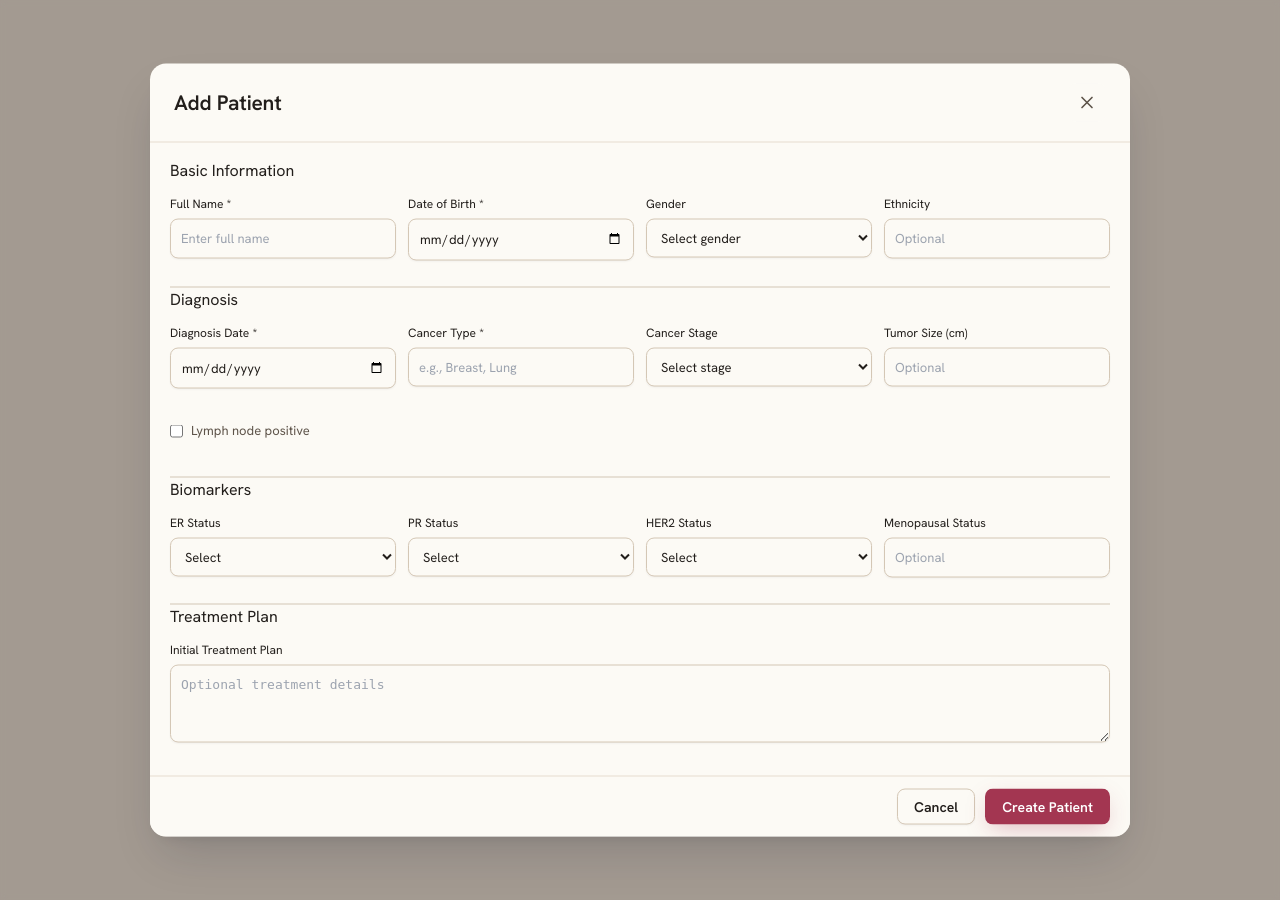
Test case: AddPatientDialog › should display backend validation message when API returns nested error payload
Type "John Doe" into the field labelled "Full Name *" at (283, 238), box [170,218,396,258]
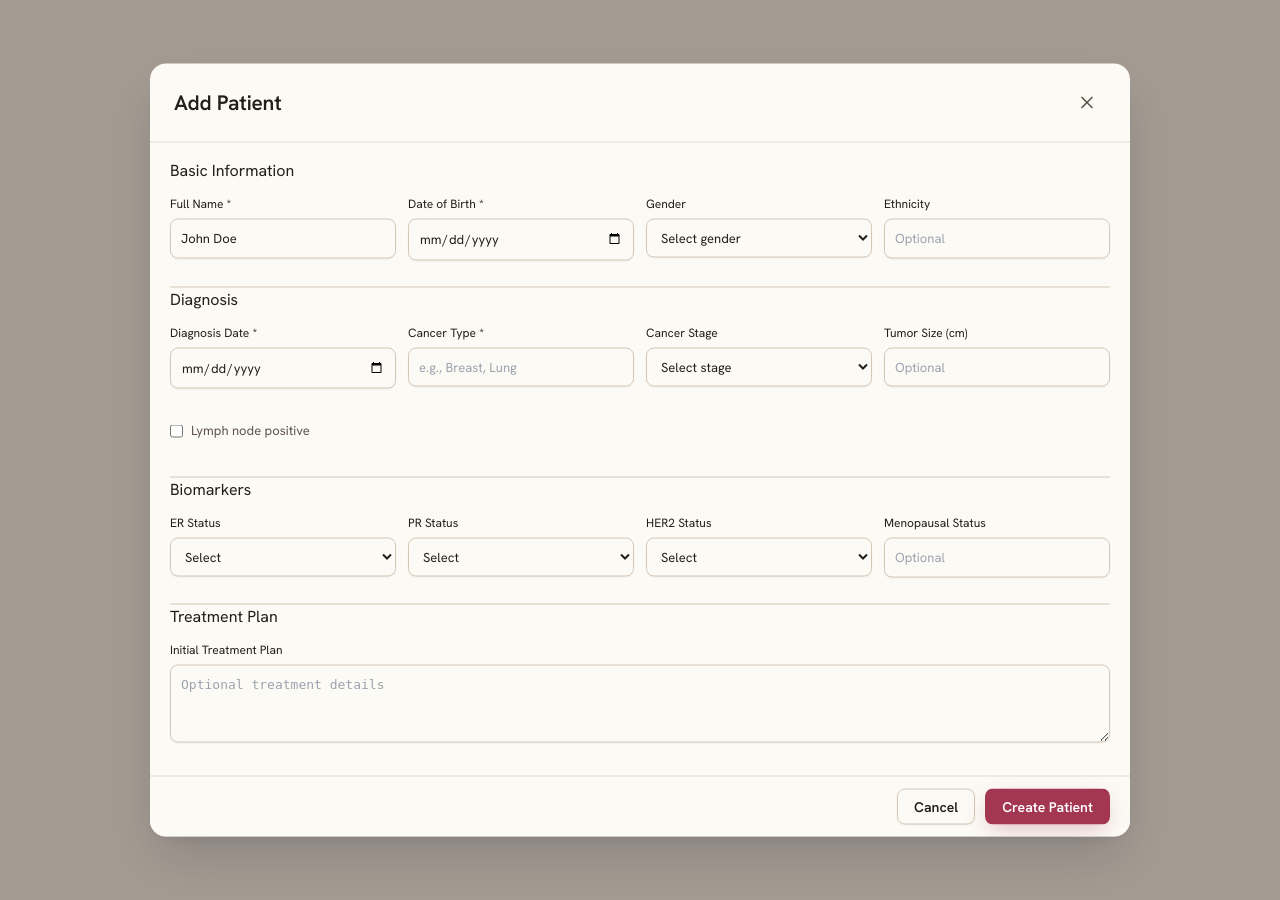
Type "1980-01-15" into the date field labelled "Date of Birth *" at (521, 239), box [408,218,634,260]
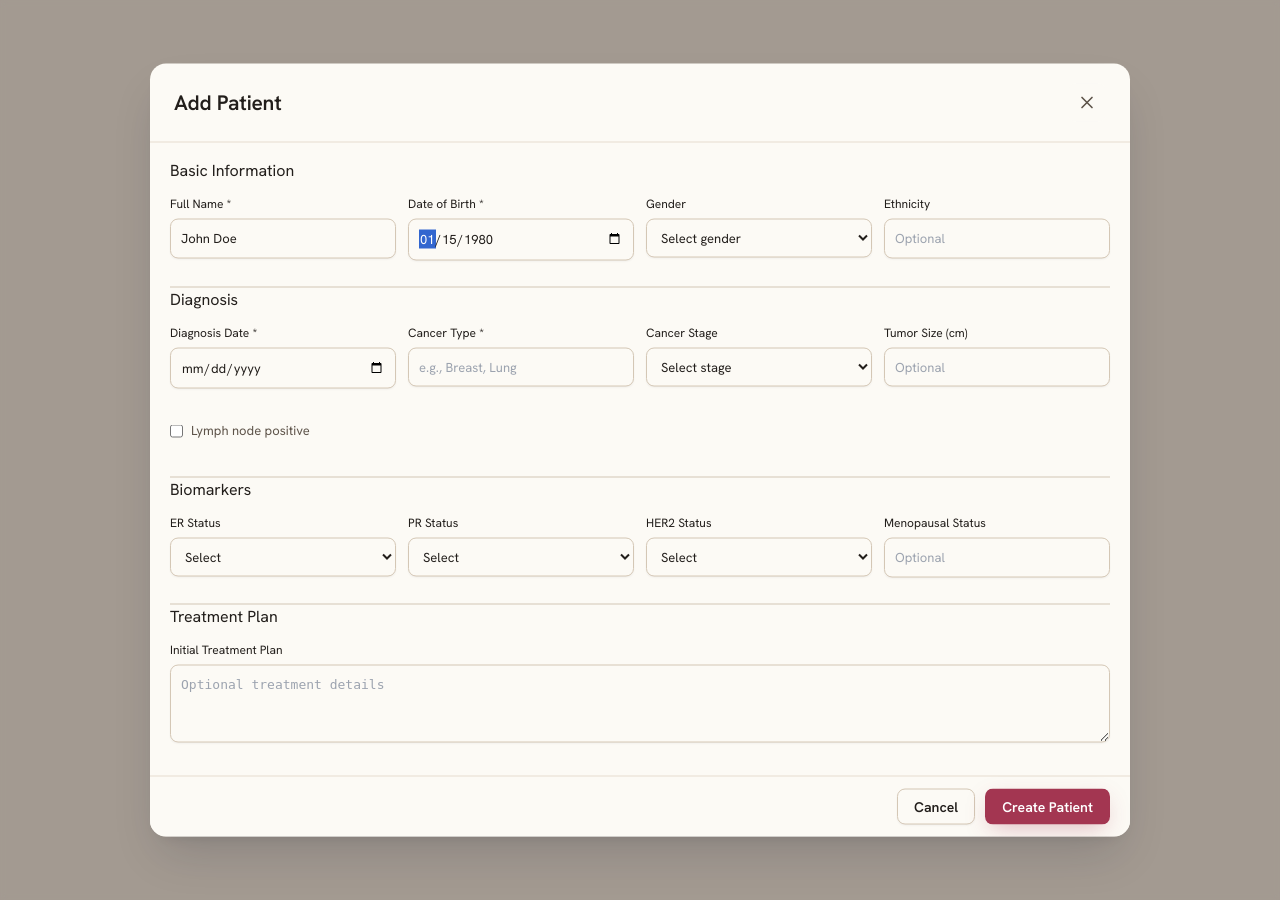
Type "2023-01-15" into the date field labelled "Diagnosis Date *" at (283, 368), box [170,347,396,388]
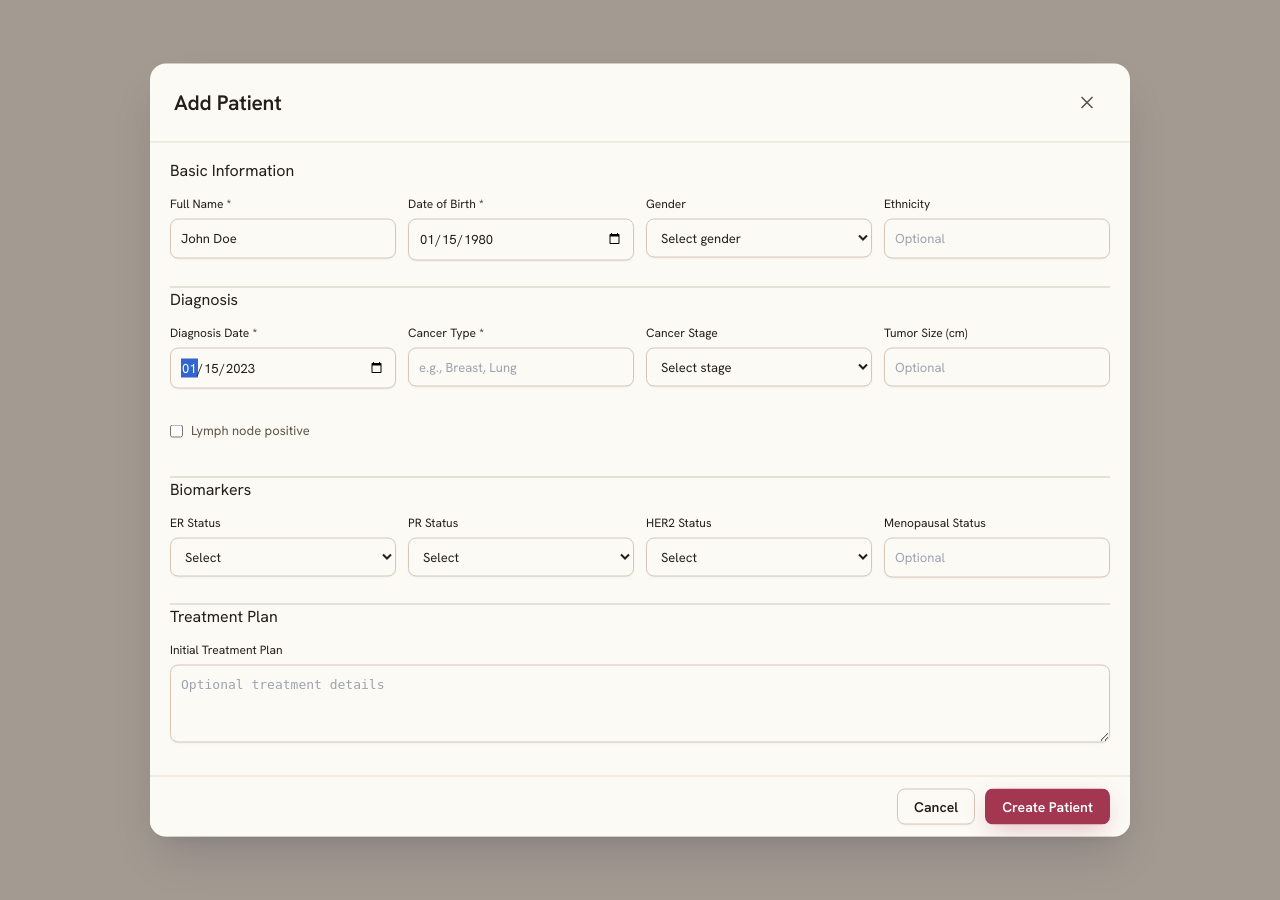
Type "Breast" into the field labelled "Cancer Type *" at (521, 367), box [408,347,634,386]
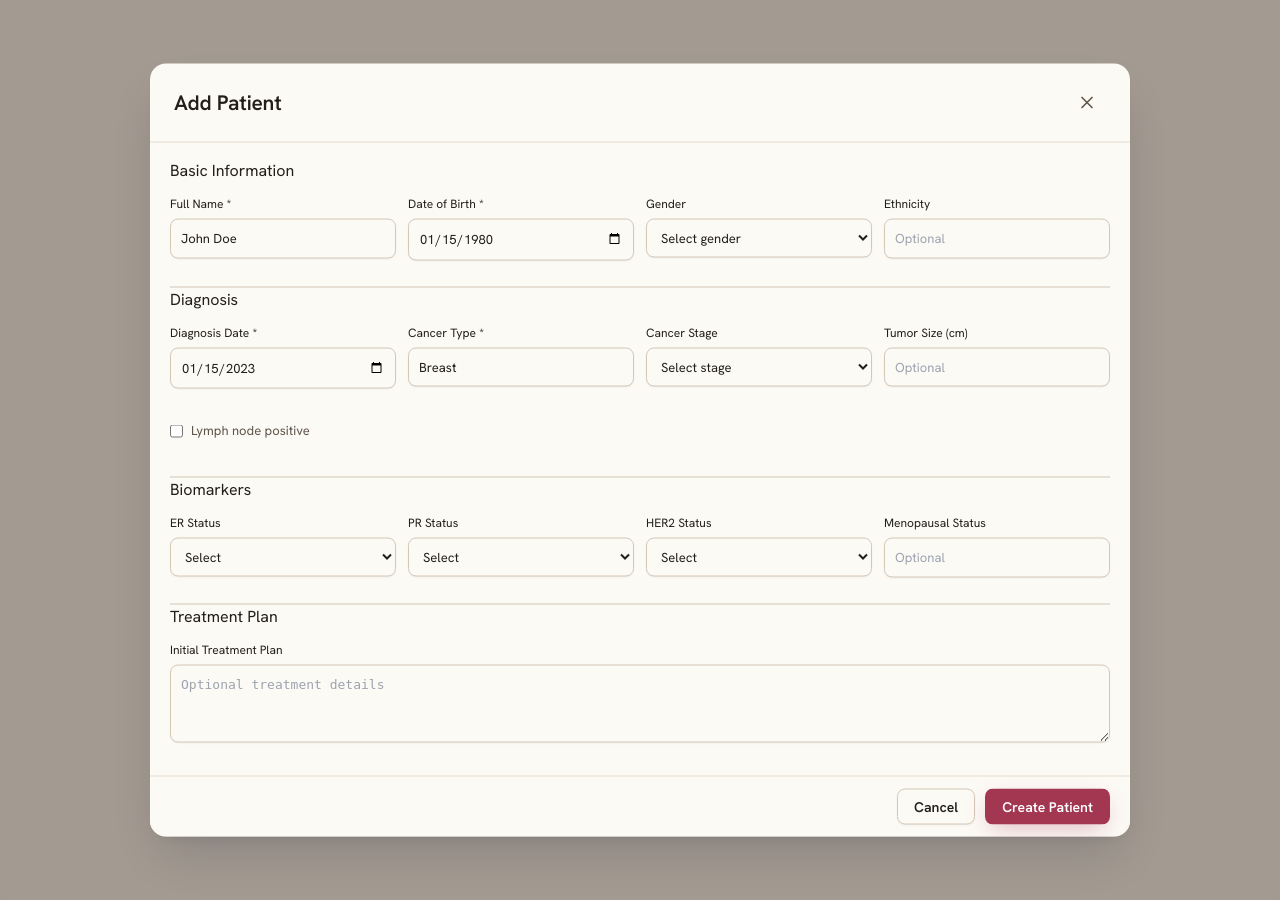
Click the button "Create Patient" at (1048, 806), box [985,788,1110,824]
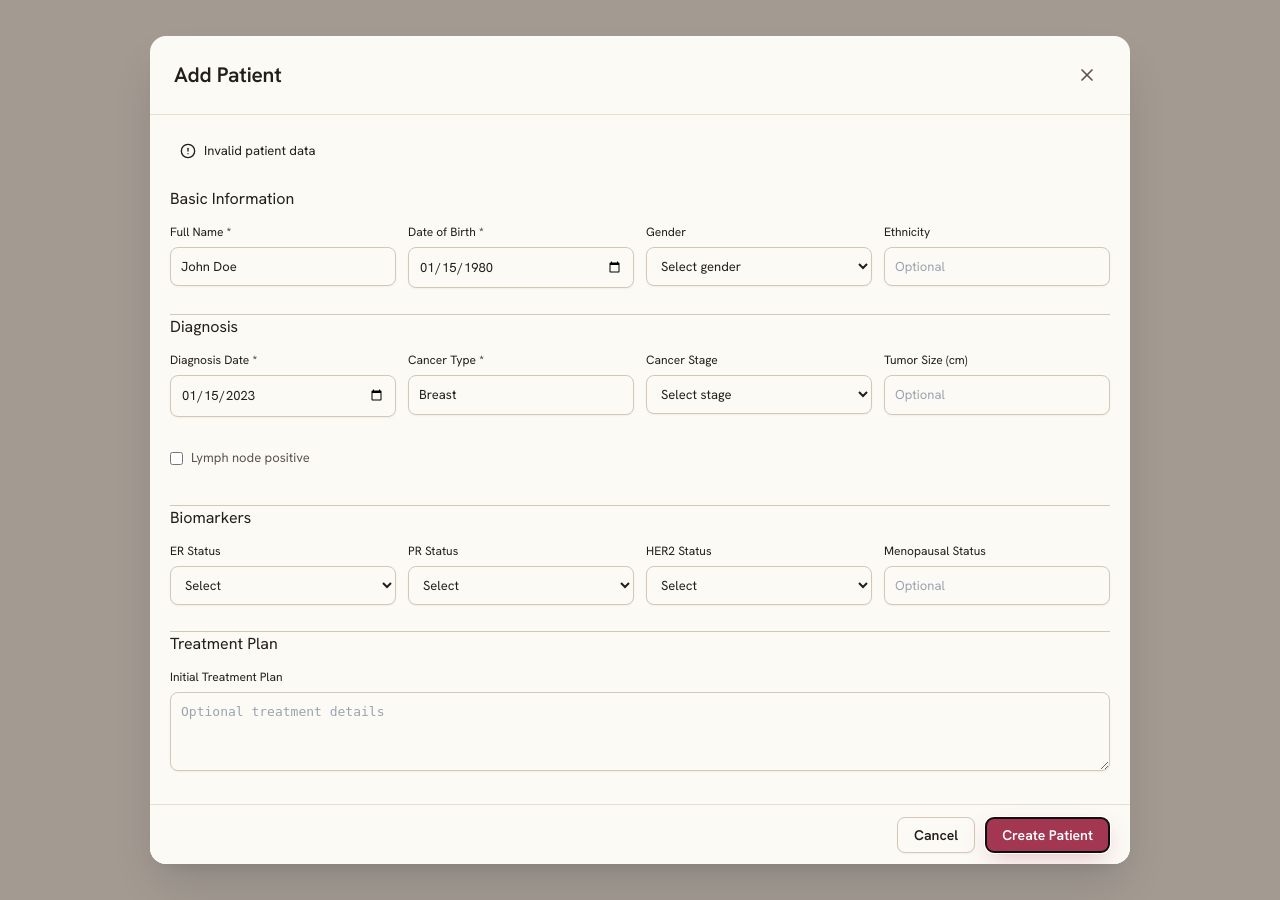
Expected: the text "Invalid patient data" is shown, [180,142,316,159]
